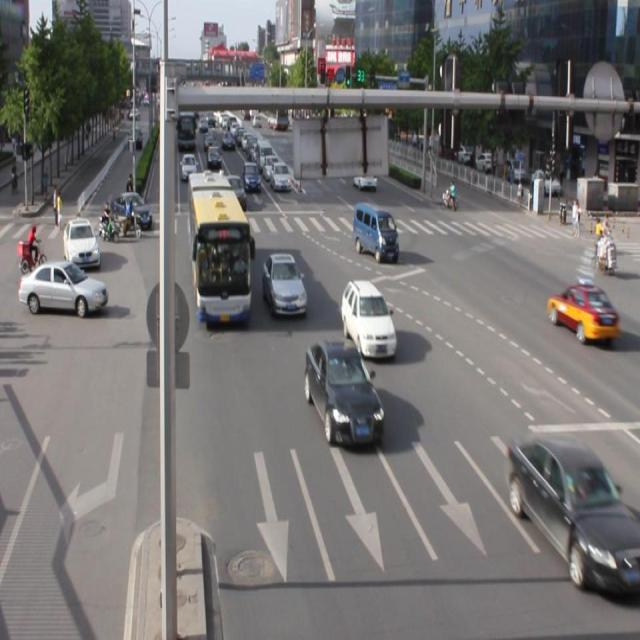car: (505, 432, 640, 599), (304, 338, 382, 448), (545, 282, 619, 343), (341, 280, 396, 358), (263, 252, 306, 315)
truck: (353, 202, 397, 261)
van: (189, 173, 252, 322)
